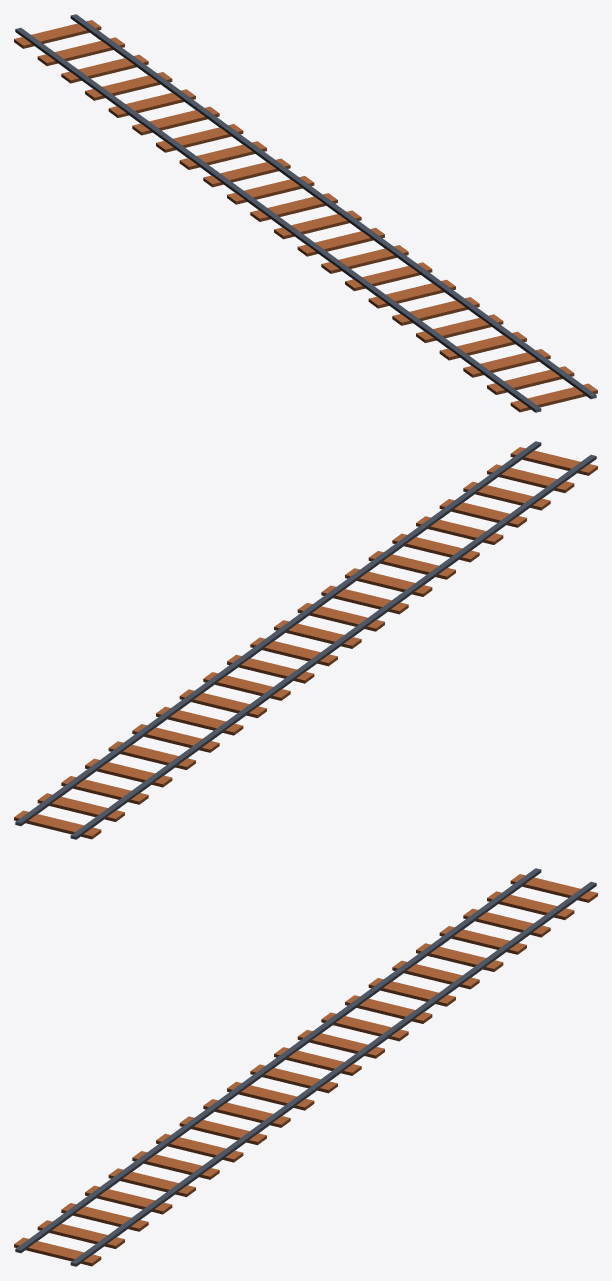
The model's file is 3D_Rail.fbx.
3 renders of one model, top to bottom at view 1: azimuth 30°, elevation 25°; view 2: azimuth 150°, elevation 25°; view 3: azimuth 330°, elevation 25°, orthographic.
Visible parts, largest first — view 1: 3D_Rail; view 2: 3D_Rail; view 3: 3D_Rail.
Boxes of the visible parts, <box> form: 3D_Rail: <box>14,14,597,412</box>; 3D_Rail: <box>14,441,597,839</box>; 3D_Rail: <box>14,868,597,1266</box>.
Bounding box in the file's own units: 345 × 24.38 × 3979.
